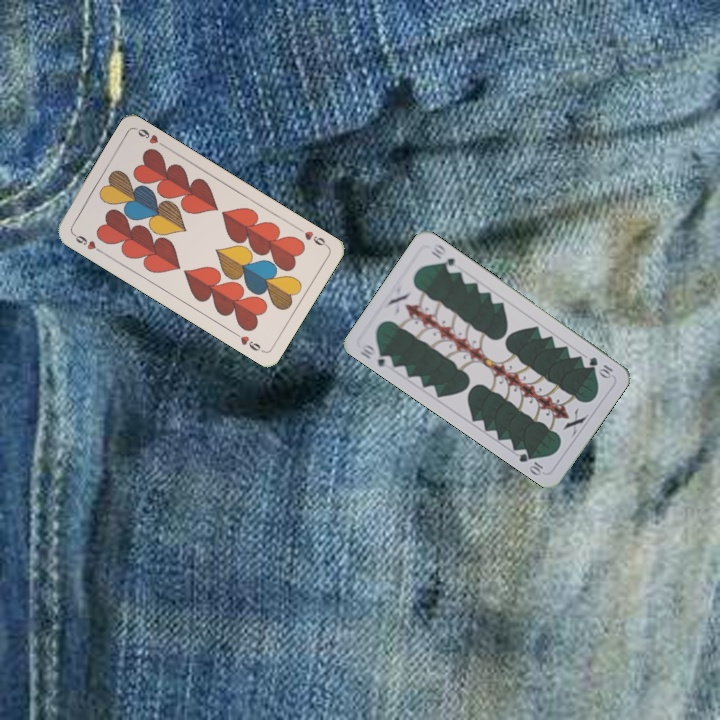G10: (355, 339, 395, 371), (585, 353, 616, 380)
H9: (293, 223, 330, 250), (69, 229, 105, 256)
